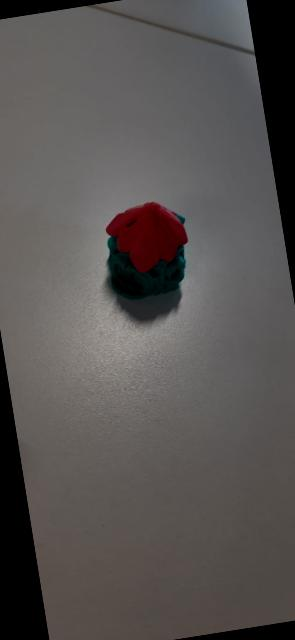House: (88, 191, 198, 311)
